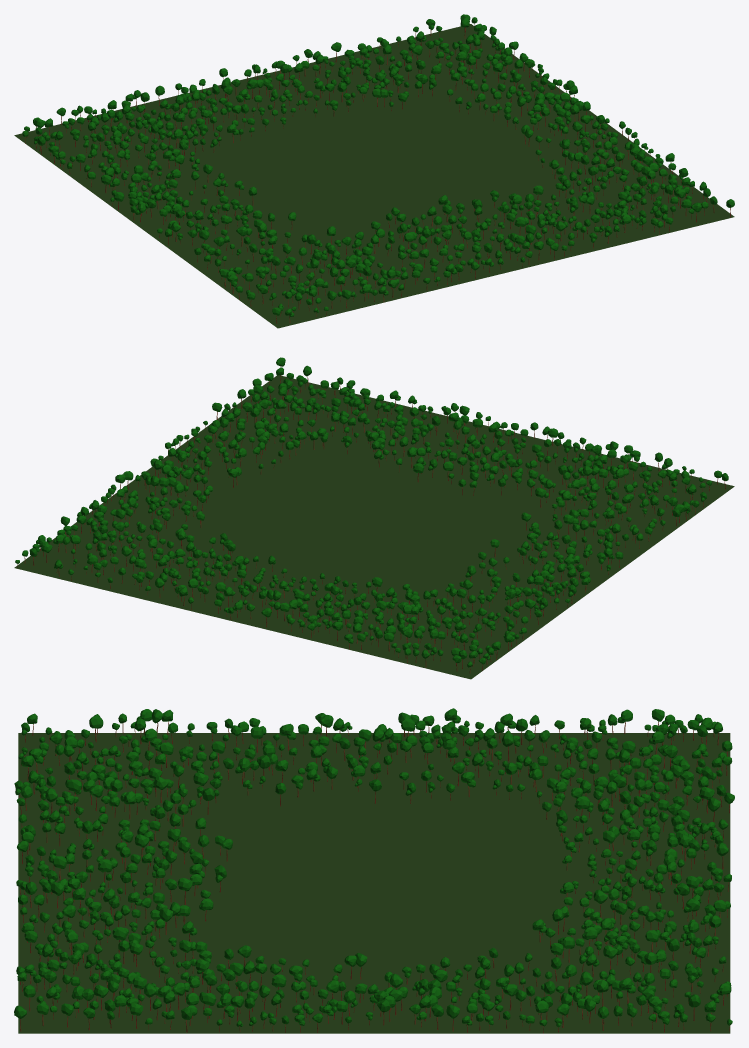
The model's file is Terreno.fbx.
3 renders of one model, top to bottom at view 1: azimuth 30°, elevation 25°; view 2: azimuth 150°, elevation 25°; view 3: azimuth 270°, elevation 25°, orthographic. The views are drawn at different scales.
Visible parts, largest first — view 1: Plane; view 2: Plane; view 3: Plane.
Boxes of the visible parts, x1,y1,x2,y2 form: Plane: (14,14,734,328); Plane: (14,357,734,679); Plane: (14,708,734,1033).
Size of the model in its own units: 48781 by 2056 by 48825.
